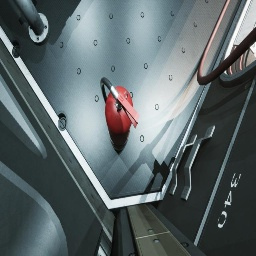FireExtinguisher ]: (100, 77, 140, 151)
